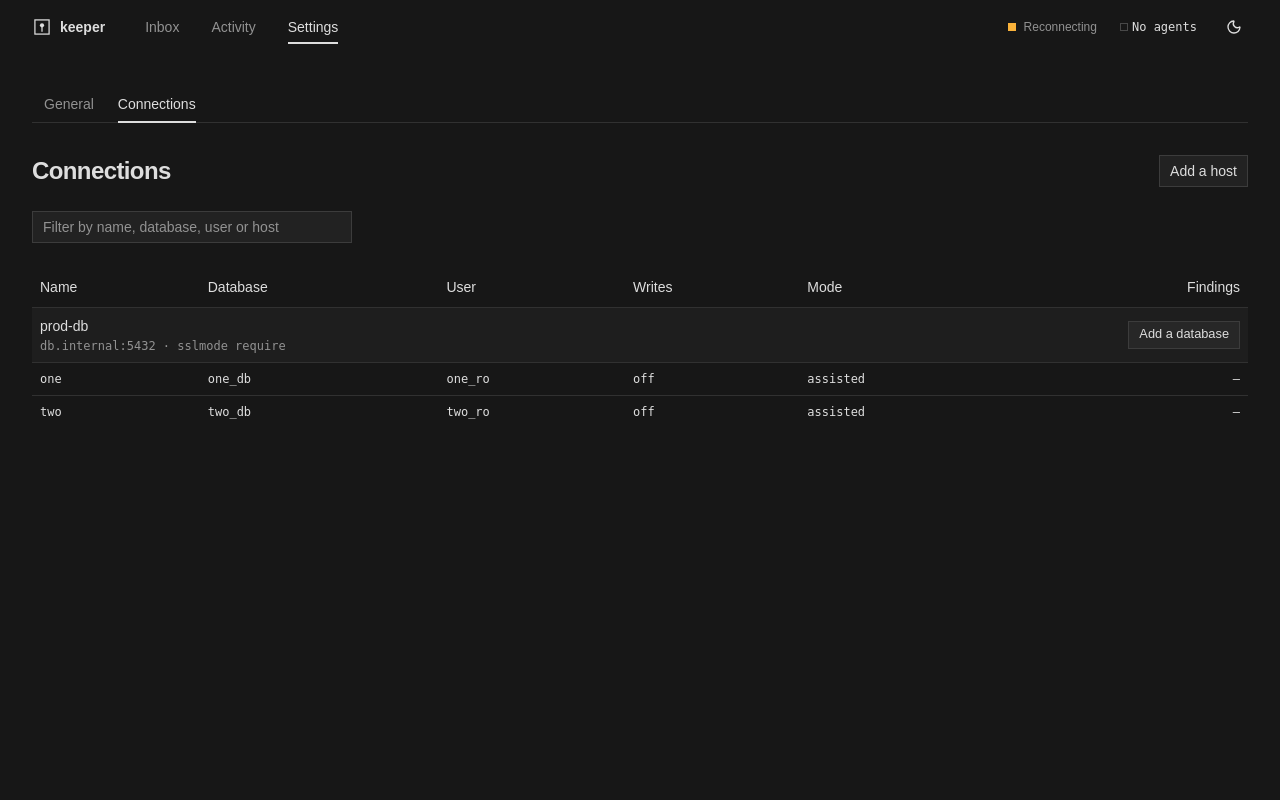
it: the shell › SHELL-C3 with no agent connected the indicator says so
Click the button "No agents": (1158, 27) [1109, 13, 1208, 41]
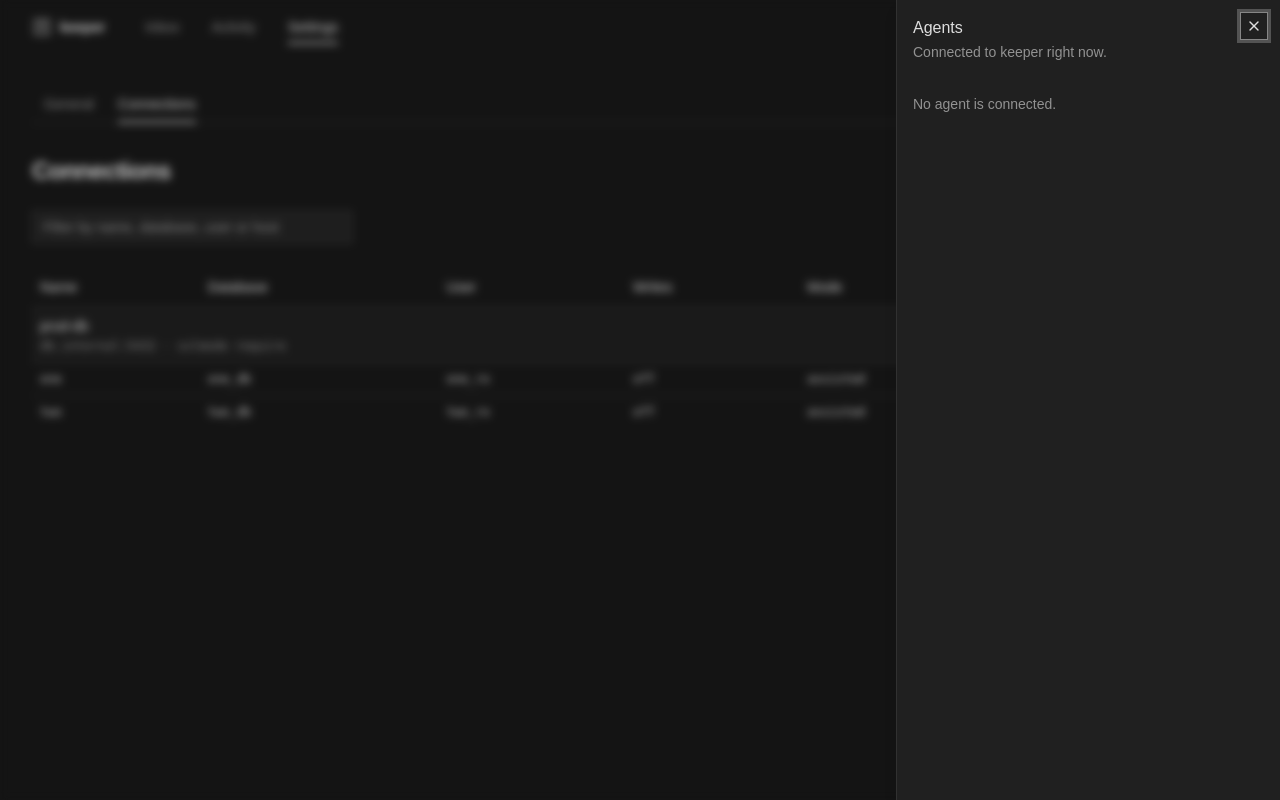
Check: the text "No agent is connected." is shown, box [913, 96, 1056, 112]
